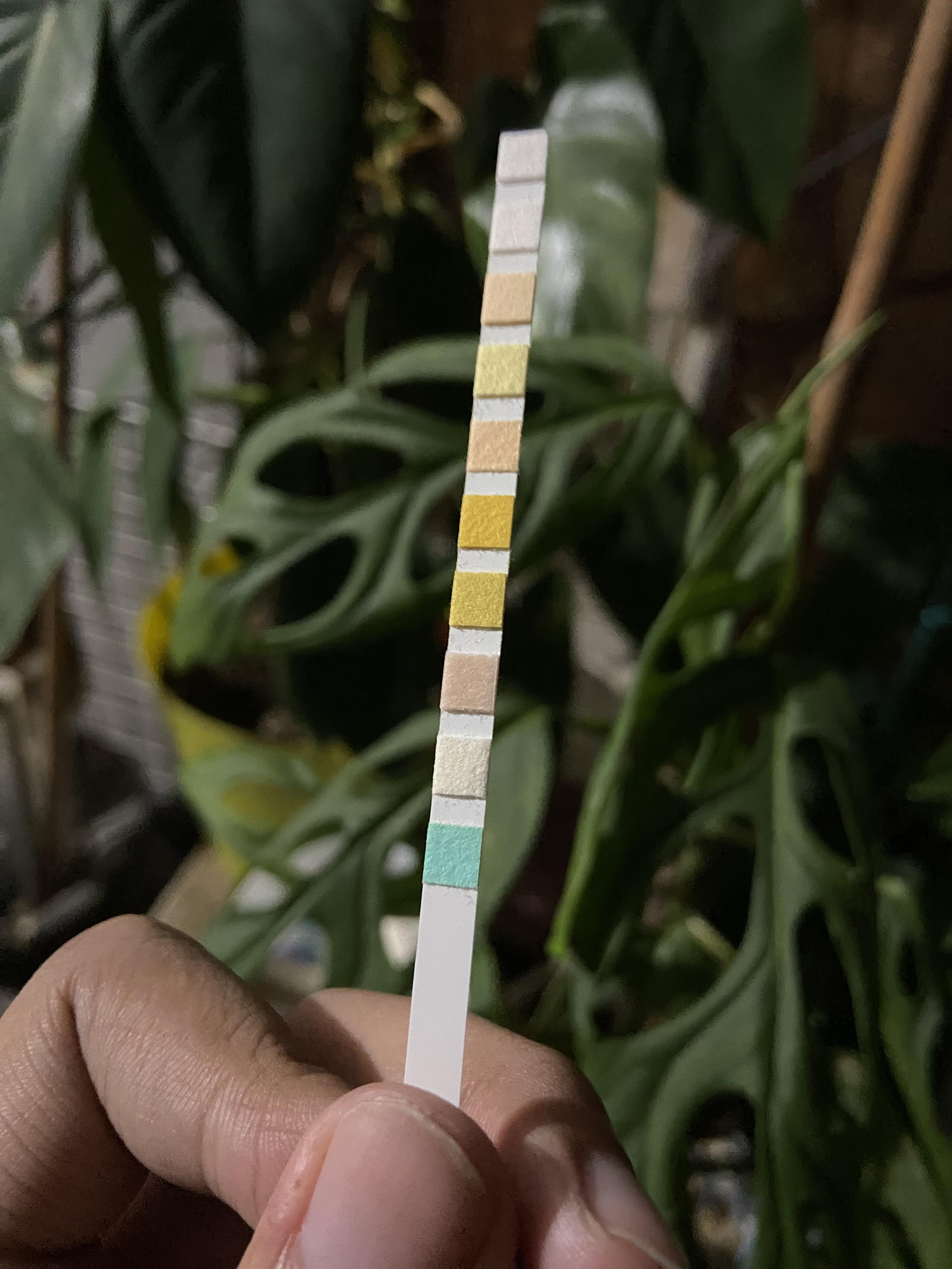Bilirubin: (438, 739, 486, 793)
Blood: (465, 496, 510, 546)
Glucose: (428, 829, 478, 883)
Ketone: (446, 655, 494, 708)
Leukocytes: (500, 135, 545, 175)
Nitrite: (495, 214, 539, 247)
Protein: (478, 349, 524, 393)
SpGravity: (455, 573, 502, 625)
Urobilinogen: (486, 277, 531, 320)
pH: (472, 423, 518, 470)
strip: (408, 131, 548, 1053)
